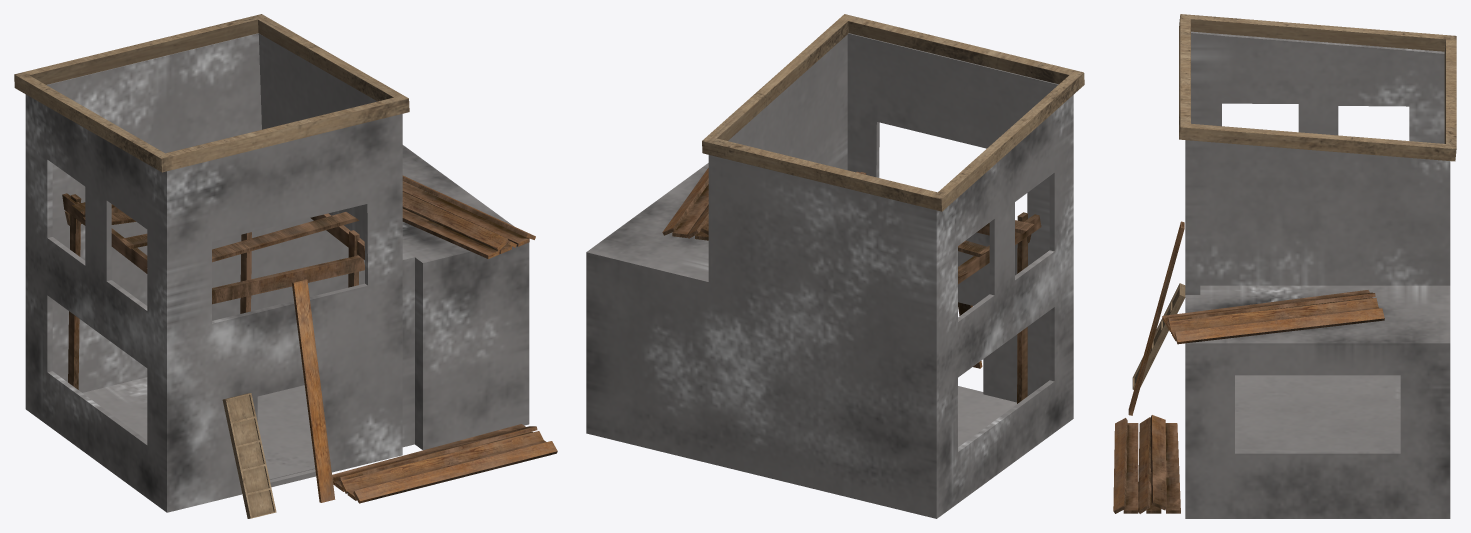
The model's file is unfinished-building.glb.
3 views of the same model, side by side, from view 1: azimuth 30°, elevation 25°; view 2: azimuth 150°, elevation 25°; view 3: azimuth 270°, elevation 25° (orthographic). The views are drawn at different scales.
Parts seen in each view (by area): view 1: main-col, roof, supports, planks-col, planks, plank1-col, plank2-col; view 2: main-col, roof, supports, planks; view 3: main-col, roof, planks, planks-col, plank2-col, plank1-col.
Boxes of the visible parts, <box> form: main-col: <box>25,33,529,512</box>; roof: <box>14,14,409,172</box>; supports: <box>62,193,364,389</box>; planks-col: <box>332,424,557,503</box>; planks: <box>402,175,535,258</box>; plank1-col: <box>222,393,276,518</box>; plank2-col: <box>291,279,335,502</box>; main-col: <box>586,33,1073,518</box>; roof: <box>702,14,1084,211</box>; supports: <box>856,171,1041,403</box>; planks: <box>662,168,708,240</box>; main-col: <box>1185,31,1450,518</box>; roof: <box>1179,14,1456,161</box>; planks: <box>1162,290,1384,344</box>; planks-col: <box>1113,415,1180,513</box>; plank2-col: <box>1128,221,1184,415</box>; plank1-col: <box>1132,283,1185,389</box>.
Size of the model in its own units: 16.72 by 15.41 by 14.2.
6 materials, 6 textured.
